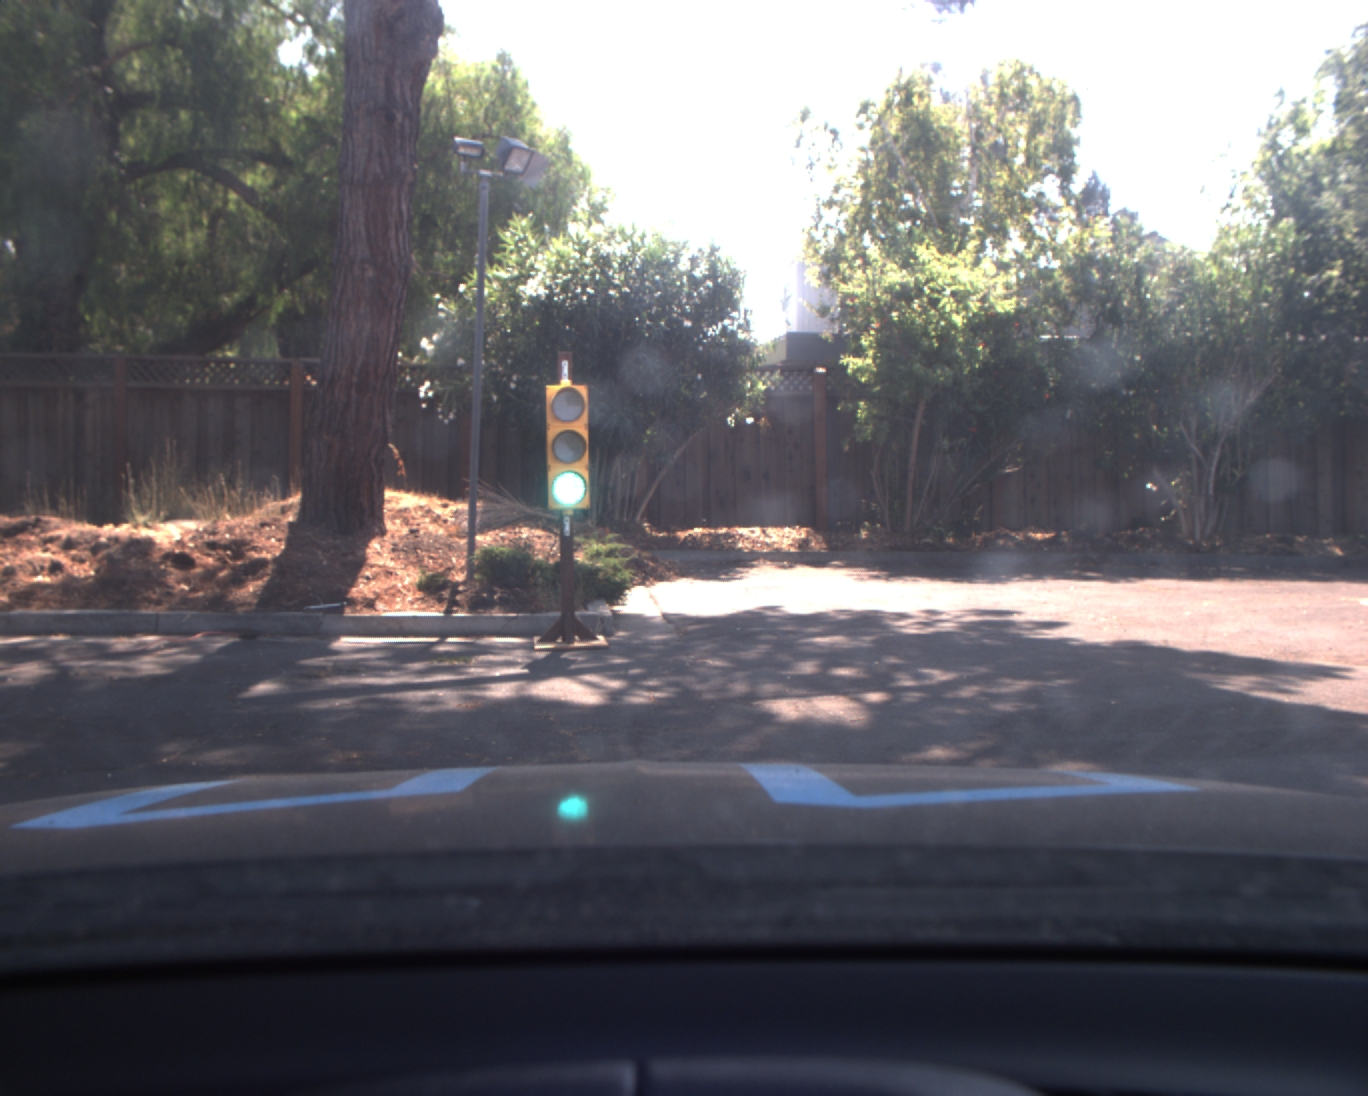green: (545, 387, 589, 506)
